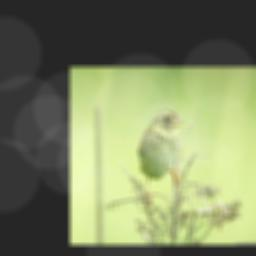Sparrow: (137, 109, 185, 205)
